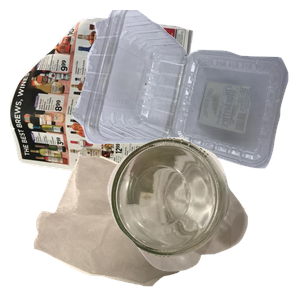glass: (105, 135, 300, 300)
paper: (10, 15, 196, 195)
plastic: (70, 10, 300, 171)
trash: (31, 149, 268, 300)
